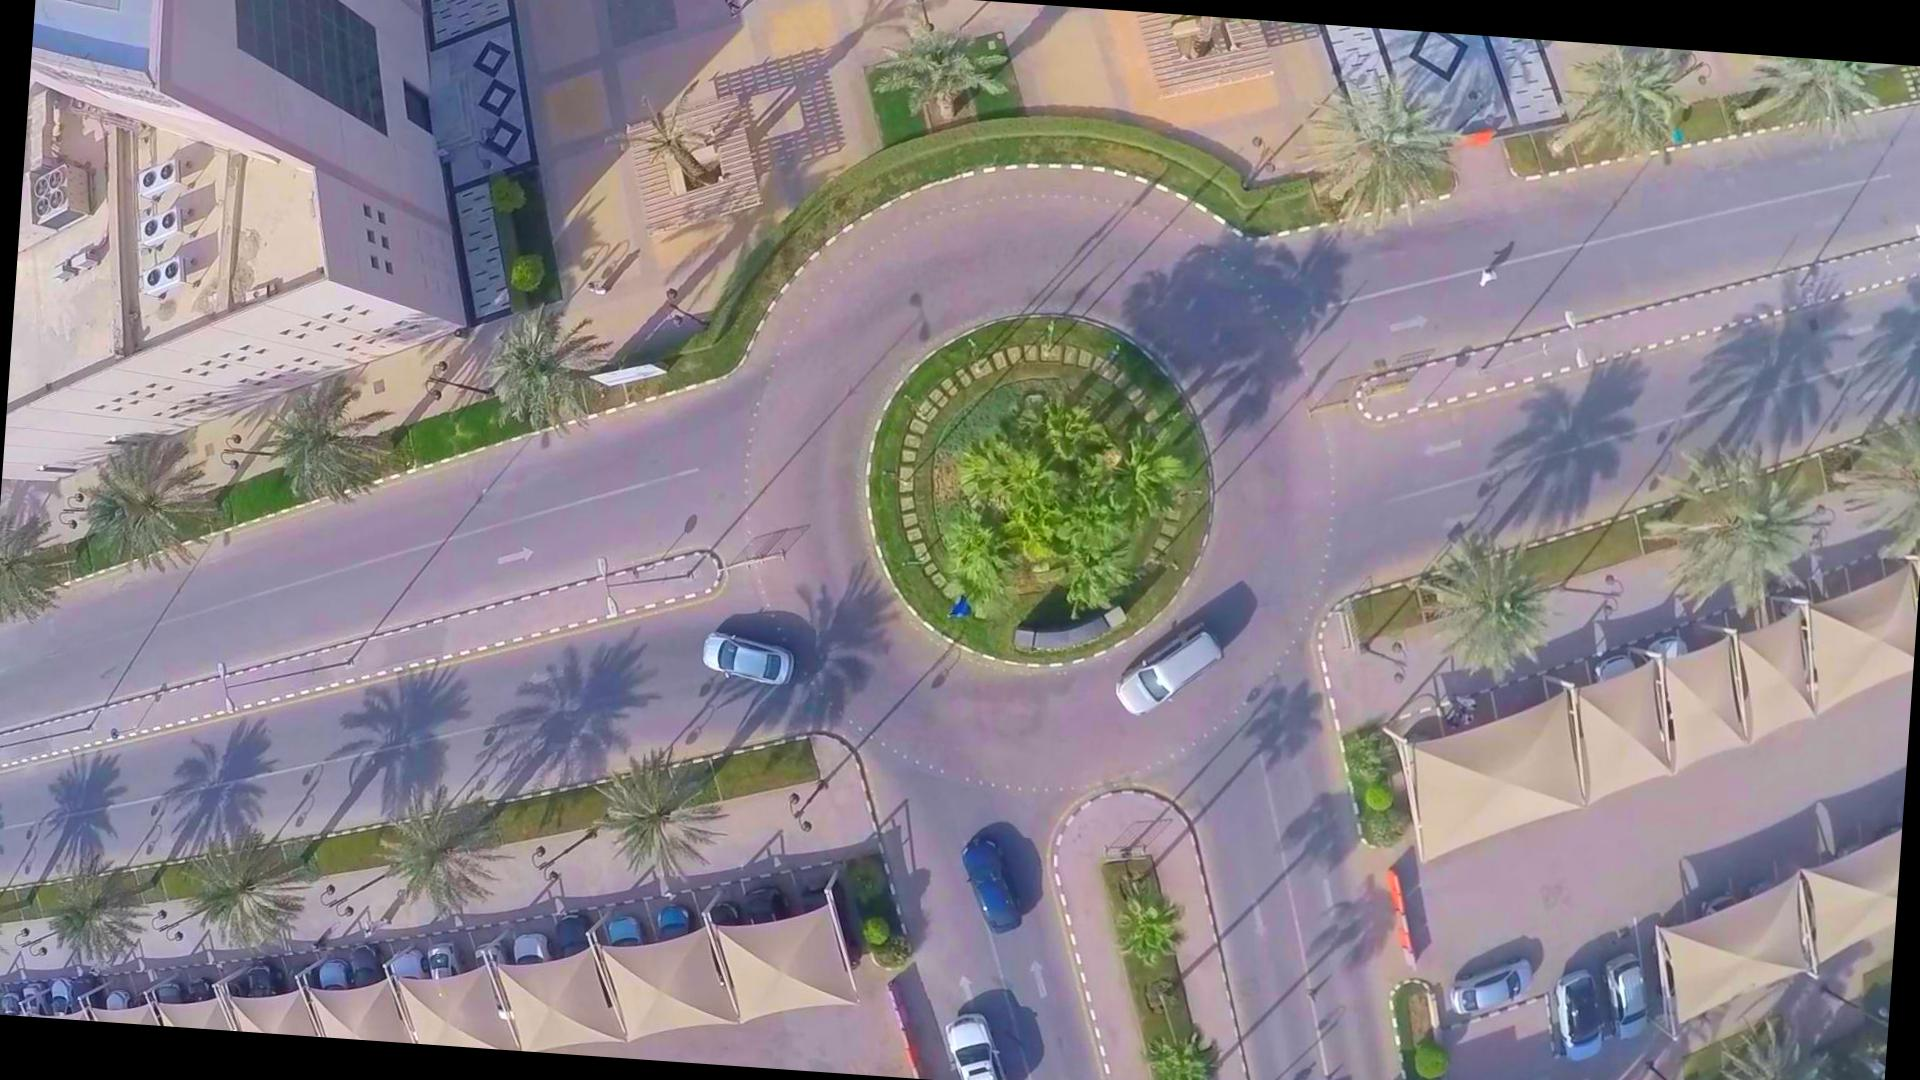vehicle: (1105, 612, 1241, 728), (956, 833, 1039, 939), (698, 636, 803, 680)
